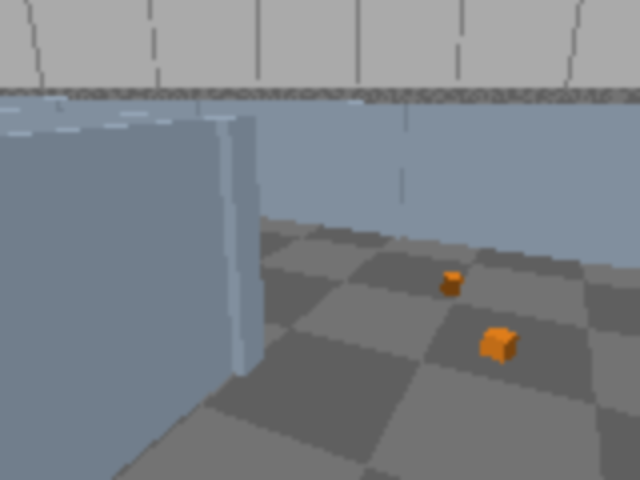puck: (480, 325, 519, 364), (442, 273, 462, 296)
